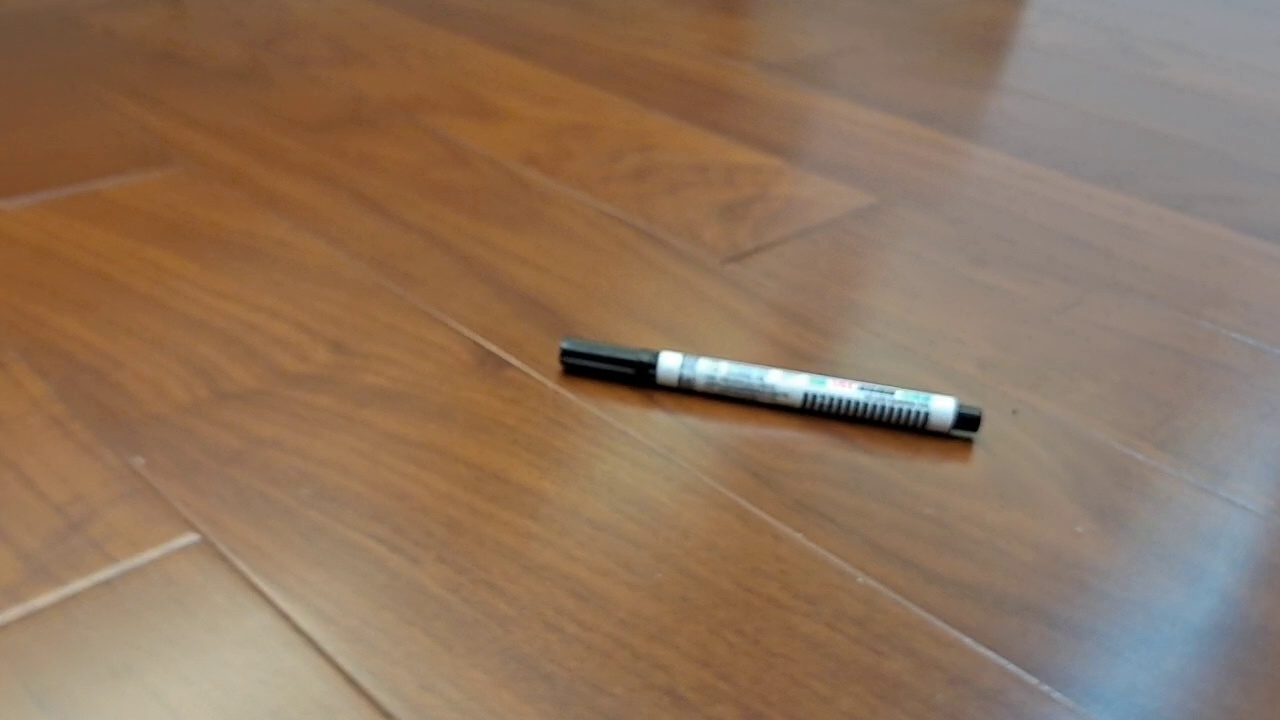pen: (558, 336, 983, 436)
